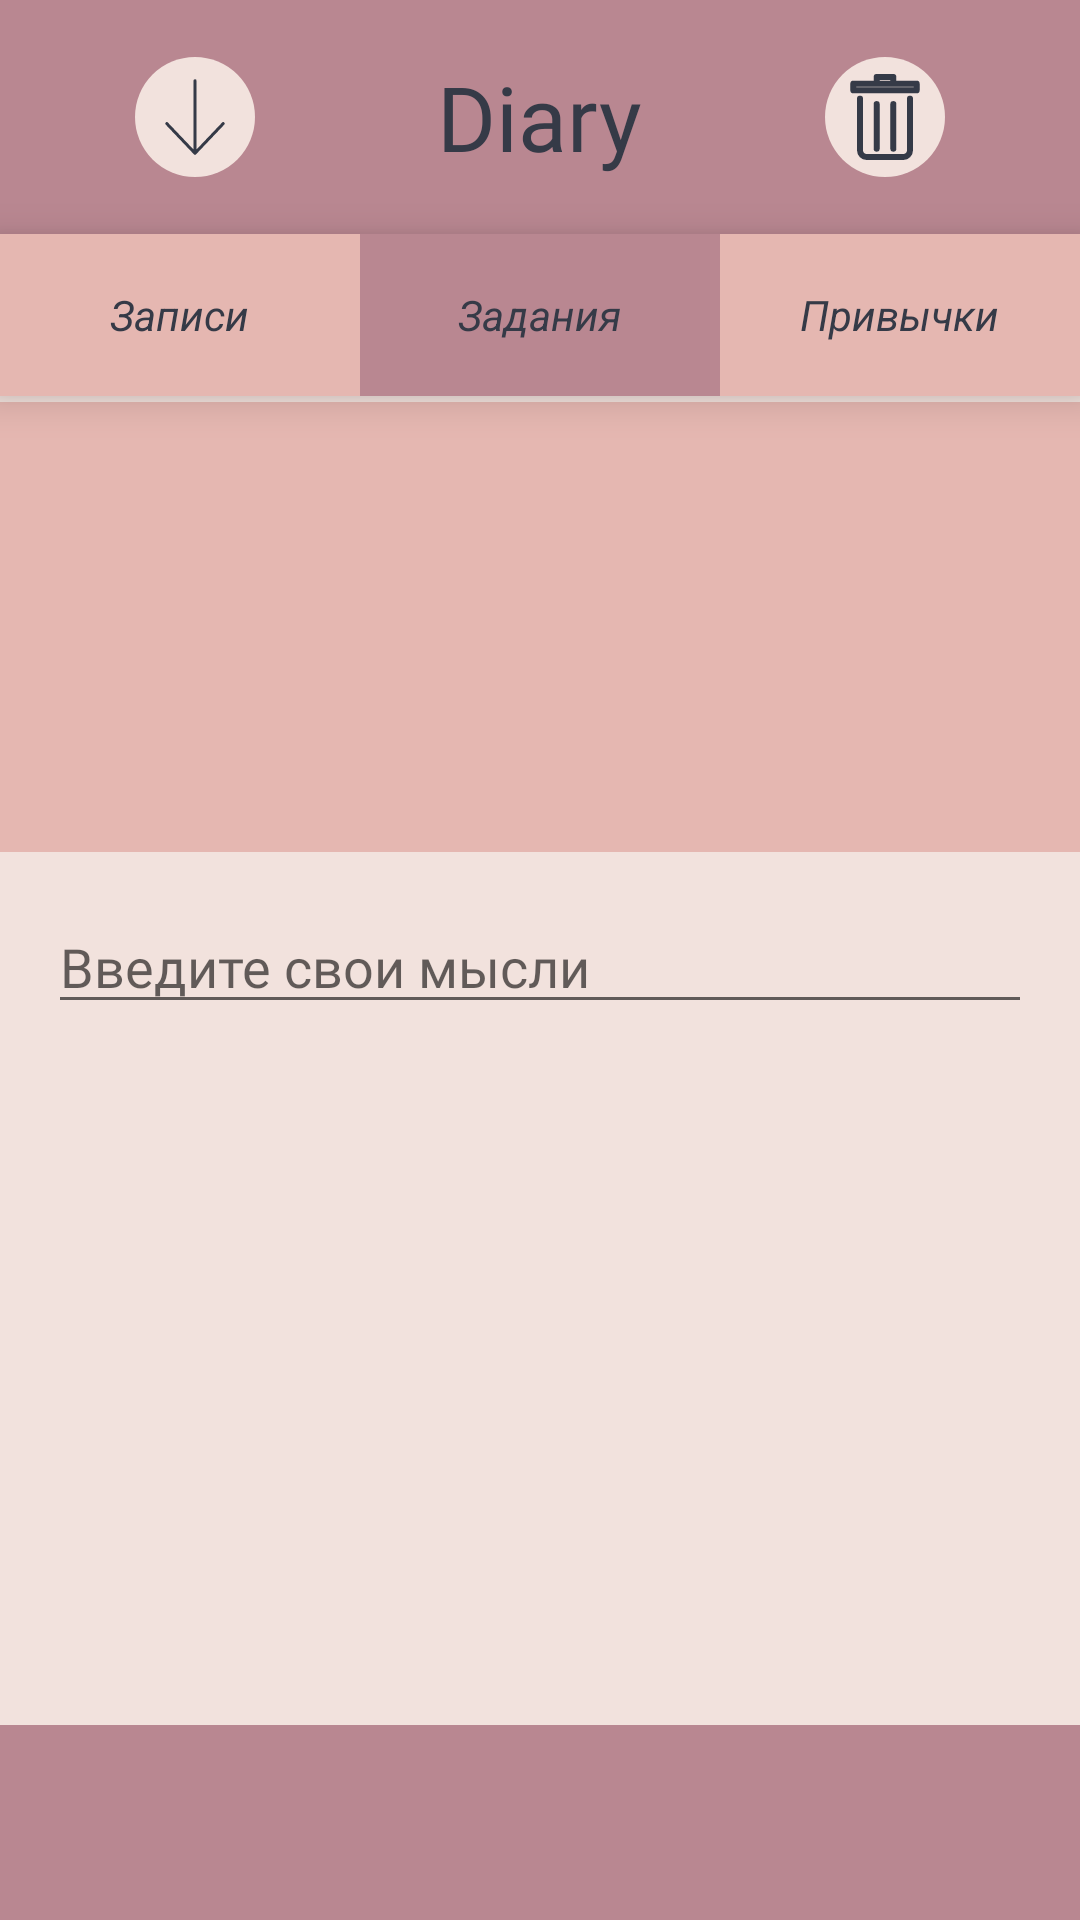

Named icons in this screenshot (1080px x 1920px) and their centers, [x,y]:
delete: [885,117]
save: [195,117]
